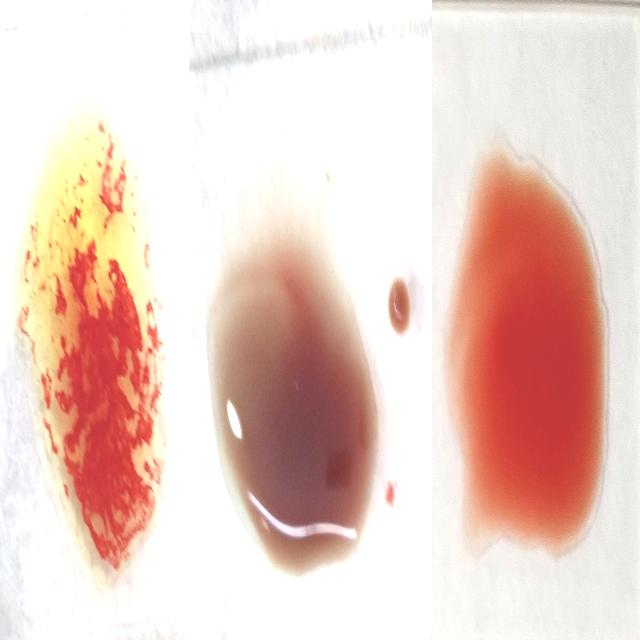B: (26, 116, 160, 576)
